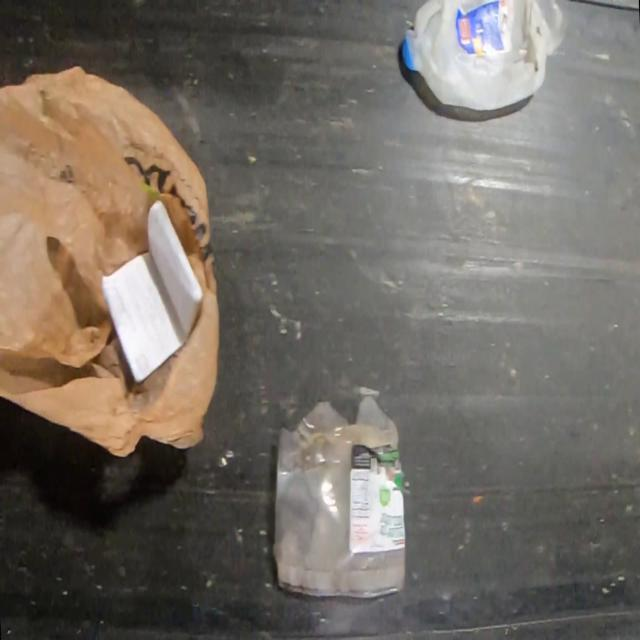rigid_plastic: (272, 394, 406, 597), (402, 1, 565, 112)
soft_plastic: (0, 63, 219, 460)
